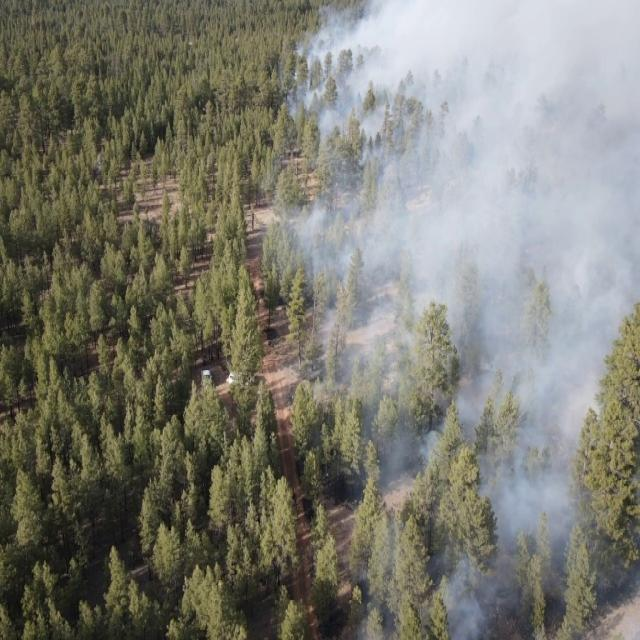smoke: (280, 0, 640, 444), (360, 442, 640, 638)
